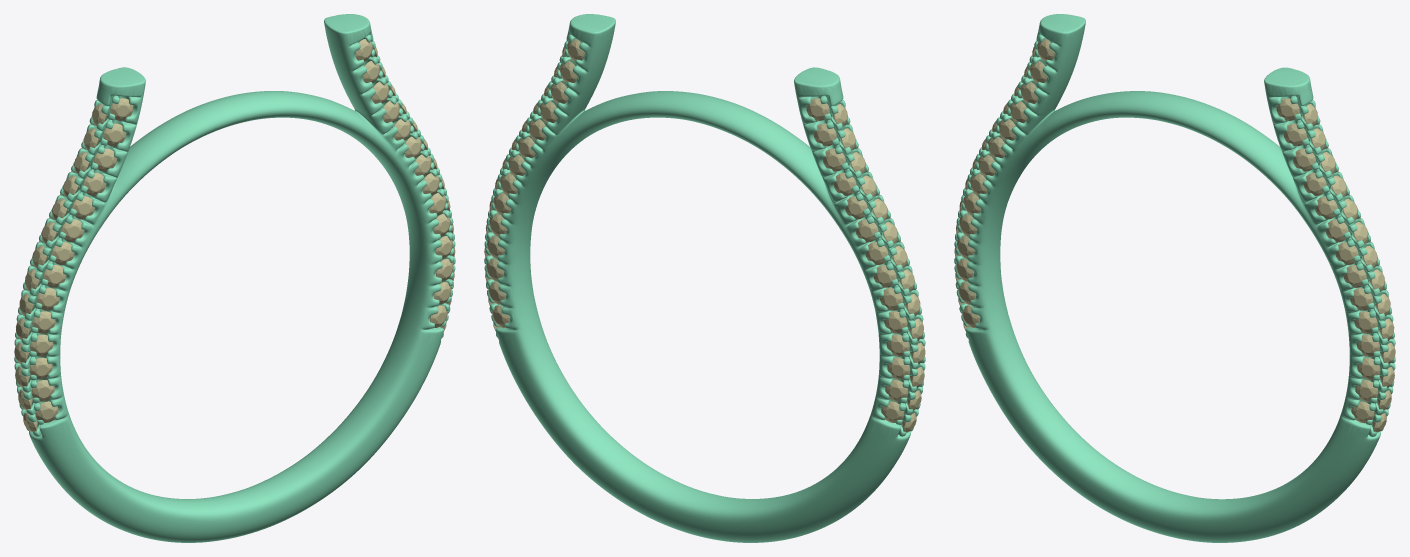
3 renders of one model, left to right at view 1: azimuth 30°, elevation 25°; view 2: azimuth 150°, elevation 25°; view 3: azimuth 330°, elevation 25°, orthographic.
Visible parts, largest first — view 1: Metal02; view 2: Metal02; view 3: Metal02.
Boxes of the visible parts, x1,y1,x2,y2 form: Metal02: (14,14,455,542); Metal02: (484,14,925,542); Metal02: (954,14,1395,542).
Size of the model in its own units: 20.9 by 22.3 by 1.88.
